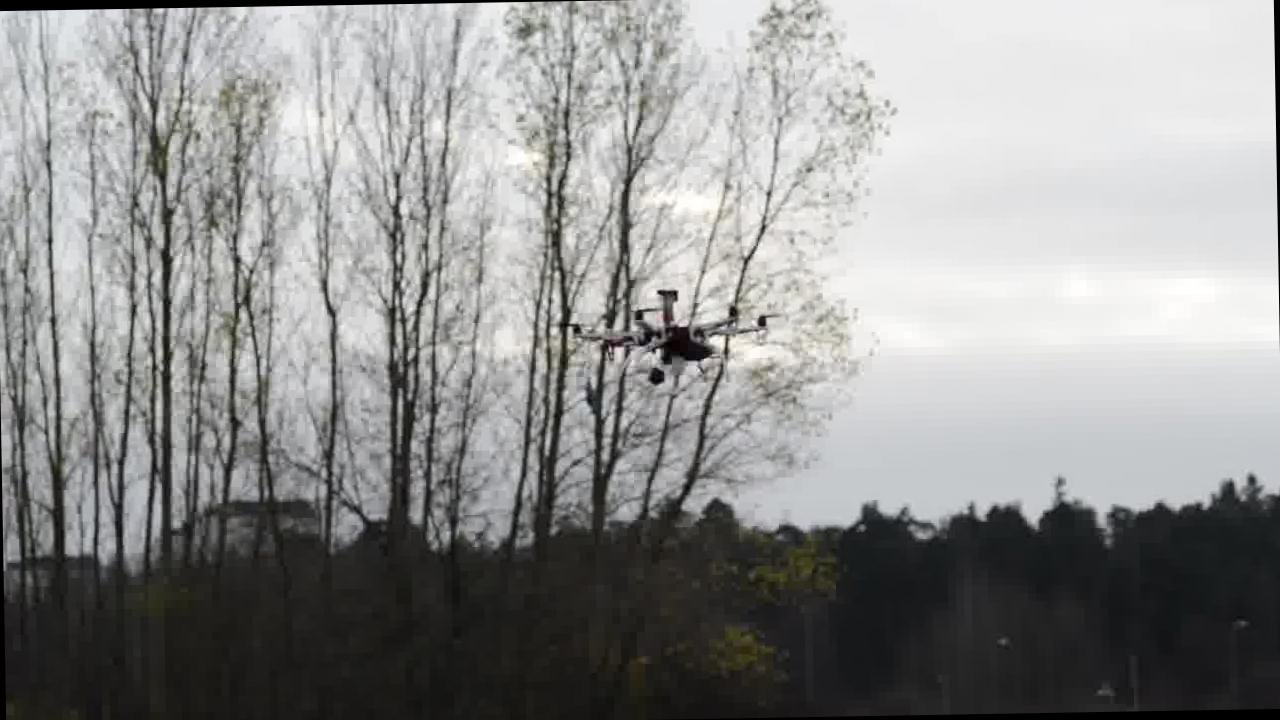drone: (556, 280, 779, 390)
